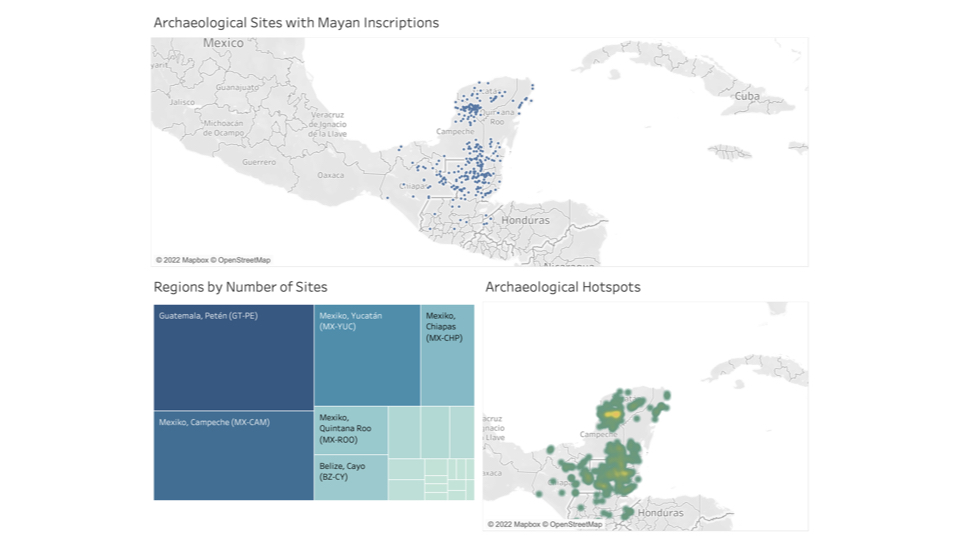

What the dashboard file says about the page in this screenshot:
{"tool":"tableau","page":{"name":"Dashboard 1","canvas":[1000,800],"ordinal":0},"visuals":[{"type":"worksheet","title":"Sheet 1","mark":"Circle","rows":["Latitude"],"cols":["Longitude"],"box":[8,8,984,392]},{"type":"worksheet","title":"Sheet 3","mark":"Automatic","box":[8,400,492,392]},{"type":"worksheet","title":"Sheet 2","mark":"Heatmap","rows":["Latitude"],"cols":["Longitude"],"box":[500,400,492,392]}]}

Visuals, with their boxes on the page's 1000x800 design canvas (x1, y1, x2, y2). These are canvas units, not pixel positions in the 960x540 screenshot, which may show the page scaled, cropped or inside an application window:
"Sheet 1" worksheet (Circle marks): 8, 8, 992, 400
"Sheet 3" worksheet: 8, 400, 500, 792
"Sheet 2" worksheet (Heatmap marks): 500, 400, 992, 792
